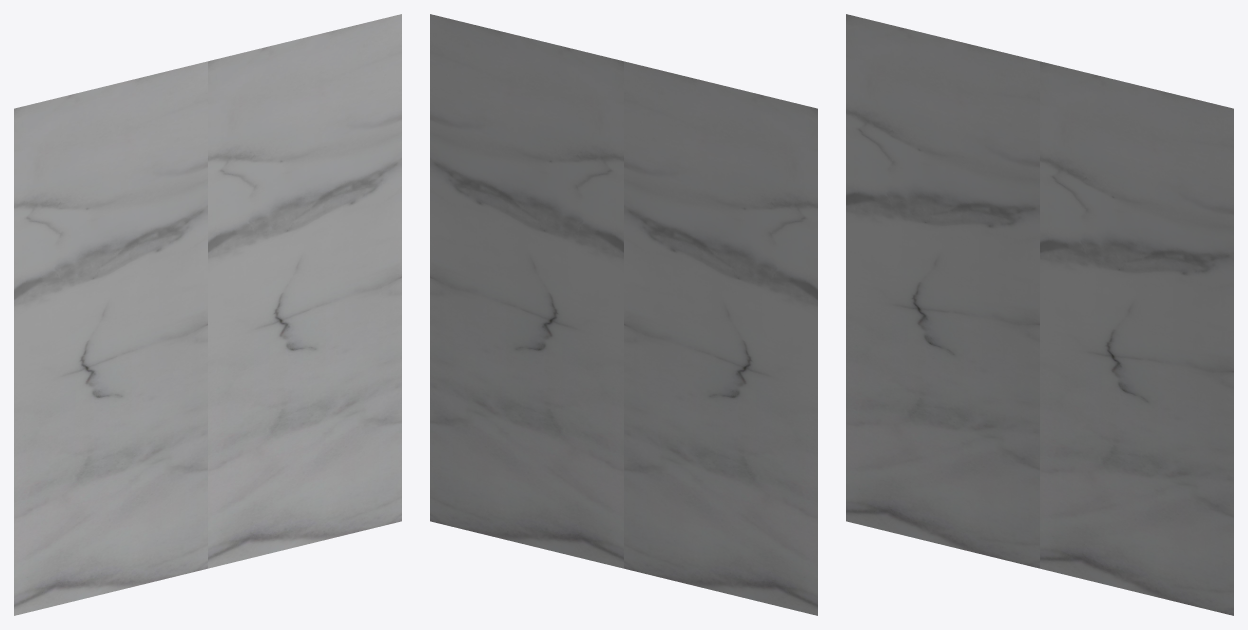
File: skateboard_mesh.glb
3 renders of one model, left to right at view 1: azimuth 30°, elevation 25°; view 2: azimuth 150°, elevation 25°; view 3: azimuth 330°, elevation 25°, orthographic.
Visible parts, largest first — view 1: skateboard_low, skateboard_low.001; view 2: skateboard_low, skateboard_low.001; view 3: skateboard_low, skateboard_low.001.
Boxes of the visible parts, x1,y1,x2,y2 form: skateboard_low: (14, 61, 207, 615); skateboard_low.001: (208, 14, 401, 568); skateboard_low: (624, 61, 817, 615); skateboard_low.001: (430, 14, 623, 568); skateboard_low: (846, 14, 1039, 568); skateboard_low.001: (1040, 61, 1233, 615).
Size of the model in its own units: 2 by 2.5 by 0.
Materials: 1 (1 with a texture image).
